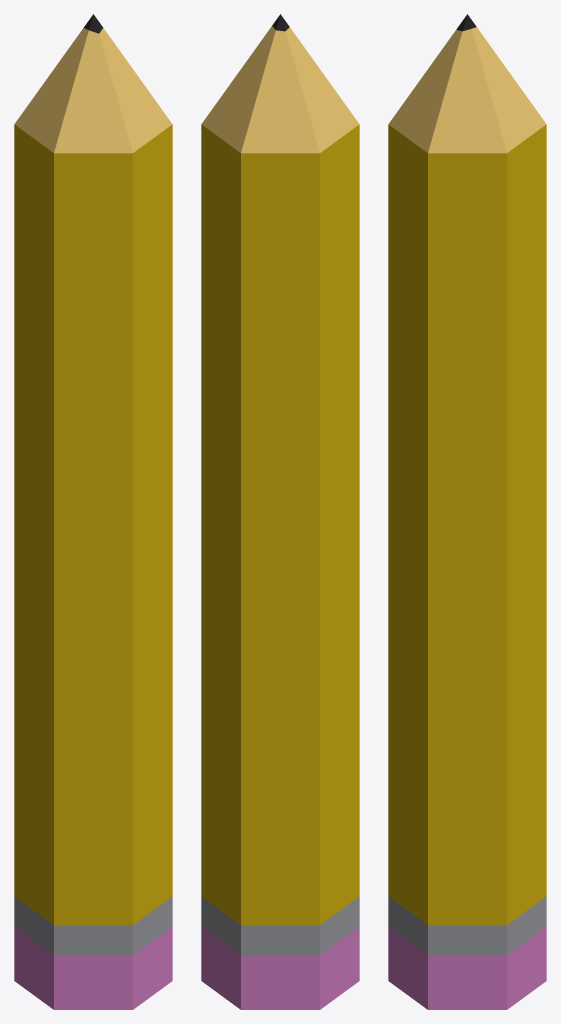
The model's file is Pencil.glb.
3 views of the same model, side by side, from view 1: azimuth 30°, elevation 25°; view 2: azimuth 150°, elevation 25°; view 3: azimuth 270°, elevation 25° (orthographic).
Parts seen in each view (by area): view 1: Cylinder, Cone; view 2: Cylinder, Cone; view 3: Cylinder, Cone.
Part boxes in pixels (box(x1,y1,x2,y2)): Cylinder: box(14, 124, 172, 1009); Cone: box(14, 14, 172, 153); Cylinder: box(201, 124, 359, 1009); Cone: box(201, 14, 359, 153); Cylinder: box(388, 124, 546, 1009); Cone: box(388, 14, 546, 153).
Size of the model in its own units: 0.0225 by 0.1754 by 0.026.
